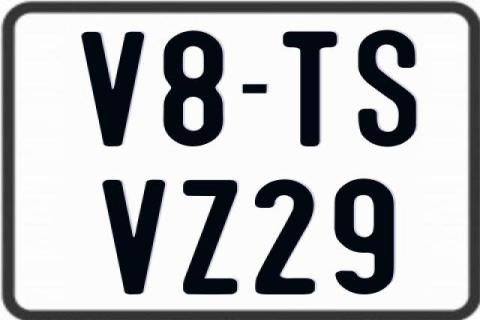0: (160, 30, 221, 150), (332, 178, 394, 296), (254, 178, 316, 294)
S: (355, 29, 416, 149)
T: (282, 31, 337, 151)
V: (102, 179, 170, 299), (80, 32, 142, 146)
Z: (181, 179, 239, 295)
